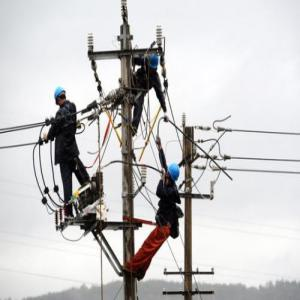blue: (167, 163, 181, 187), (54, 85, 68, 108), (150, 50, 160, 75)
